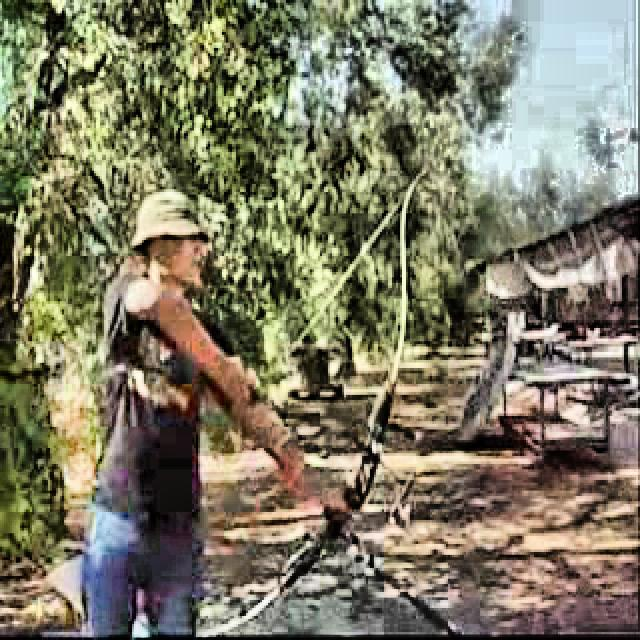I: (85, 185, 354, 640)
